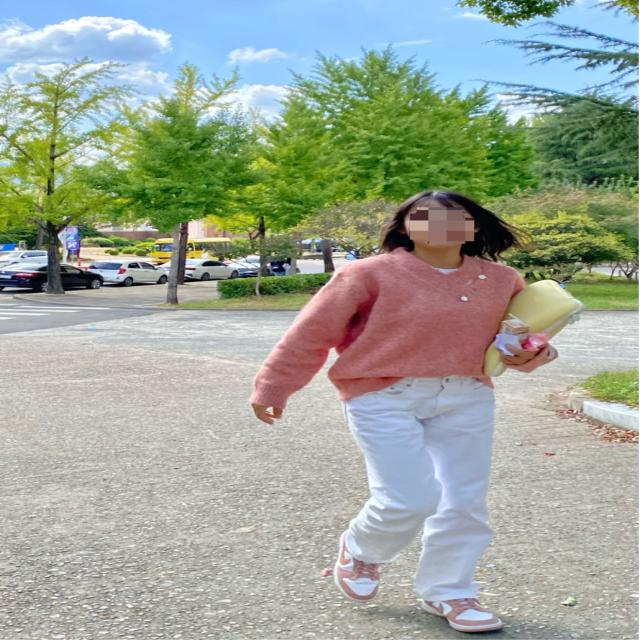cottonpants: (339, 372, 499, 601)
sweater: (247, 242, 531, 407)
